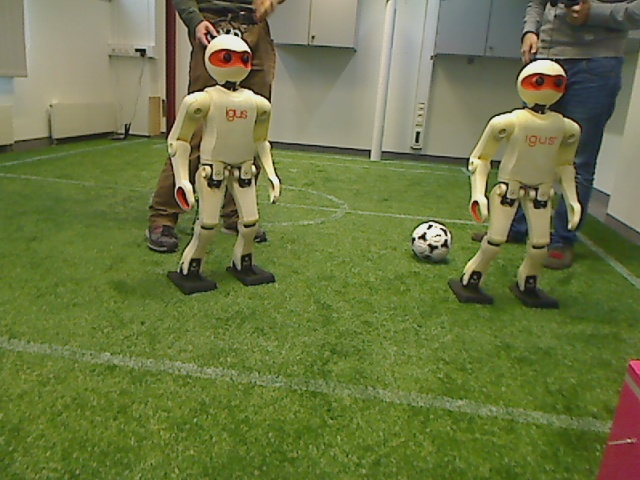ball: (407, 216, 458, 268)
robot: (456, 56, 581, 312), (166, 31, 286, 297)
